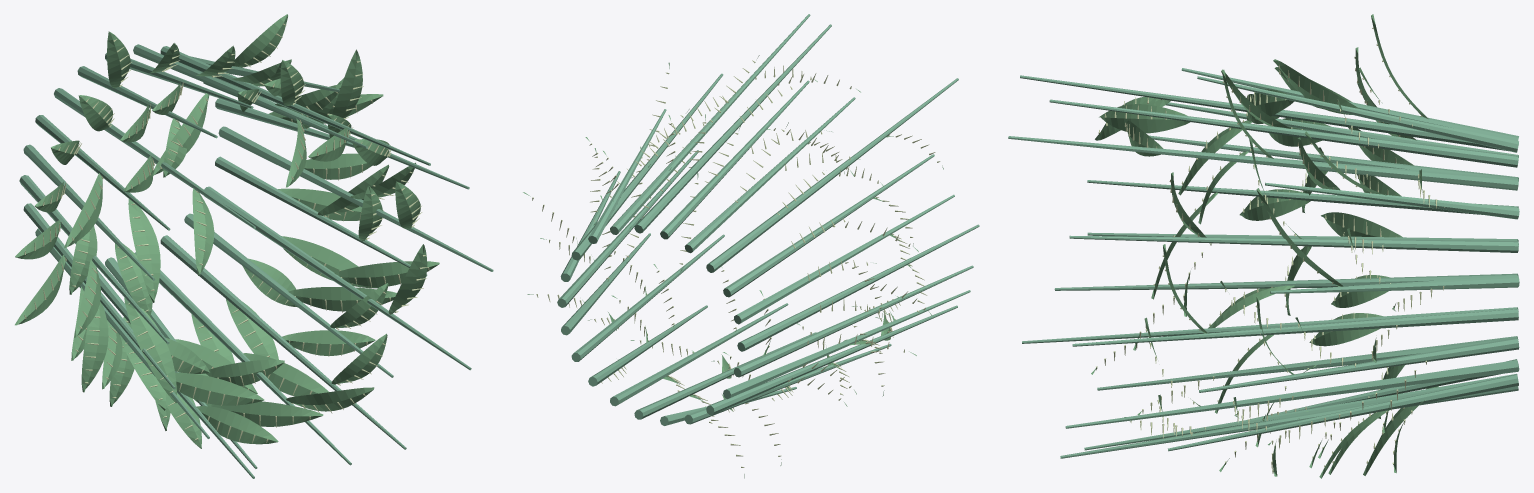
The model's file is Aquarion_Seagrass_Meadow_Animated.glb.
The picture shows the model from 3 angles, left to right: view 1: azimuth 30°, elevation 25°; view 2: azimuth 150°, elevation 25°; view 3: azimuth 270°, elevation 25°; orthographic projection. The views are drawn at different scales.
Visible parts, largest first — view 1: Aquarion_Seagrass_Meadow_Animated_stem20, Aquarion_Seagrass_Meadow_Animated_stem18, Aquarion_Seagrass_Meadow_Animated_stem0, Aquarion_Seagrass_Meadow_Animated_blade13_2, Aquarion_Seagrass_Meadow_Animated_blade11_2, Aquarion_Seagrass_Meadow_Animated_stem4, Aquarion_Seagrass_Meadow_Animated_blade9_2, Aquarion_Seagrass_Meadow_Animated_stem21, Aquarion_Seagrass_Meadow_Animated_stem17, Aquarion_Seagrass_Meadow_Animated_blade15_2, Aquarion_Seagrass_Meadow_Animated_stem19, Aquarion_Seagrass_Meadow_Animated_blade14_2 (+60 smaller); view 2: Aquarion_Seagrass_Meadow_Animated_stem8, Aquarion_Seagrass_Meadow_Animated_stem5, Aquarion_Seagrass_Meadow_Animated_stem4, Aquarion_Seagrass_Meadow_Animated_stem11, Aquarion_Seagrass_Meadow_Animated_stem14, Aquarion_Seagrass_Meadow_Animated_stem12, Aquarion_Seagrass_Meadow_Animated_stem13, Aquarion_Seagrass_Meadow_Animated_stem9, Aquarion_Seagrass_Meadow_Animated_stem10, Aquarion_Seagrass_Meadow_Animated_stem7, Aquarion_Seagrass_Meadow_Animated_stem6, Aquarion_Seagrass_Meadow_Animated_stem0 (+9 smaller); view 3: Aquarion_Seagrass_Meadow_Animated_stem4, Aquarion_Seagrass_Meadow_Animated_stem5, Aquarion_Seagrass_Meadow_Animated_stem20, Aquarion_Seagrass_Meadow_Animated_stem2, Aquarion_Seagrass_Meadow_Animated_stem0, Aquarion_Seagrass_Meadow_Animated_stem8, Aquarion_Seagrass_Meadow_Animated_stem19, Aquarion_Seagrass_Meadow_Animated_stem21, Aquarion_Seagrass_Meadow_Animated_stem13, Aquarion_Seagrass_Meadow_Animated_stem6, Aquarion_Seagrass_Meadow_Animated_stem15, Aquarion_Seagrass_Meadow_Animated_stem18 (+25 smaller).
Part boxes in pixels (box(x1,y1,x2,y2)): Aquarion_Seagrass_Meadow_Animated_stem20: box(204, 186, 471, 370); Aquarion_Seagrass_Meadow_Animated_stem18: box(160, 235, 406, 449); Aquarion_Seagrass_Meadow_Animated_stem0: box(218, 126, 493, 271); Aquarion_Seagrass_Meadow_Animated_blade13_2: box(175, 372, 264, 405); Aquarion_Seagrass_Meadow_Animated_blade11_2: box(124, 297, 176, 402); Aquarion_Seagrass_Meadow_Animated_stem4: box(160, 46, 430, 165); Aquarion_Seagrass_Meadow_Animated_blade9_2: box(128, 199, 160, 302); Aquarion_Seagrass_Meadow_Animated_stem21: box(215, 156, 427, 276); Aquarion_Seagrass_Meadow_Animated_stem17: box(134, 252, 351, 465); Aquarion_Seagrass_Meadow_Animated_blade15_2: box(205, 401, 323, 426); Aquarion_Seagrass_Meadow_Animated_stem19: box(184, 213, 393, 377); Aquarion_Seagrass_Meadow_Animated_blade14_2: box(196, 406, 278, 444); Aquarion_Seagrass_Meadow_Animated_stem8: box(706, 78, 958, 272); Aquarion_Seagrass_Meadow_Animated_stem5: box(634, 24, 831, 233); Aquarion_Seagrass_Meadow_Animated_stem4: box(610, 14, 810, 234); Aquarion_Seagrass_Meadow_Animated_stem11: box(737, 224, 979, 351); Aquarion_Seagrass_Meadow_Animated_stem14: box(706, 305, 957, 414); Aquarion_Seagrass_Meadow_Animated_stem12: box(734, 265, 973, 377); Aquarion_Seagrass_Meadow_Animated_stem13: box(723, 290, 970, 399); Aquarion_Seagrass_Meadow_Animated_stem9: box(723, 154, 934, 297); Aquarion_Seagrass_Meadow_Animated_stem10: box(734, 194, 954, 324); Aquarion_Seagrass_Meadow_Animated_stem7: box(684, 97, 855, 253); Aquarion_Seagrass_Meadow_Animated_stem6: box(660, 80, 809, 239); Aquarion_Seagrass_Meadow_Animated_stem0: box(557, 150, 698, 307); Aquarion_Seagrass_Meadow_Animated_stem4: box(1008, 136, 1518, 190); Aquarion_Seagrass_Meadow_Animated_stem5: box(1049, 99, 1518, 167); Aquarion_Seagrass_Meadow_Animated_stem20: box(1065, 360, 1518, 428); Aquarion_Seagrass_Meadow_Animated_stem2: box(1069, 235, 1518, 252); Aquarion_Seagrass_Meadow_Animated_stem0: box(1072, 309, 1518, 346); Aquarion_Seagrass_Meadow_Animated_stem8: box(1020, 75, 1518, 151); Aquarion_Seagrass_Meadow_Animated_stem19: box(1168, 374, 1518, 451); Aquarion_Seagrass_Meadow_Animated_stem21: box(1199, 337, 1519, 392); Aquarion_Seagrass_Meadow_Animated_stem13: box(1054, 273, 1518, 290); Aquarion_Seagrass_Meadow_Animated_stem6: box(1197, 76, 1518, 152); Aquarion_Seagrass_Meadow_Animated_stem15: box(1097, 336, 1518, 390); Aquarion_Seagrass_Meadow_Animated_stem18: box(1060, 386, 1518, 458).
Size of the model in its own units: 2.03 by 1.98 by 2.11.
